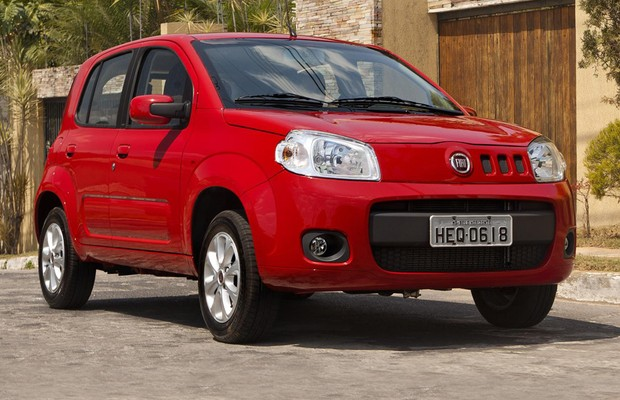Carro: (30, 28, 581, 343)
